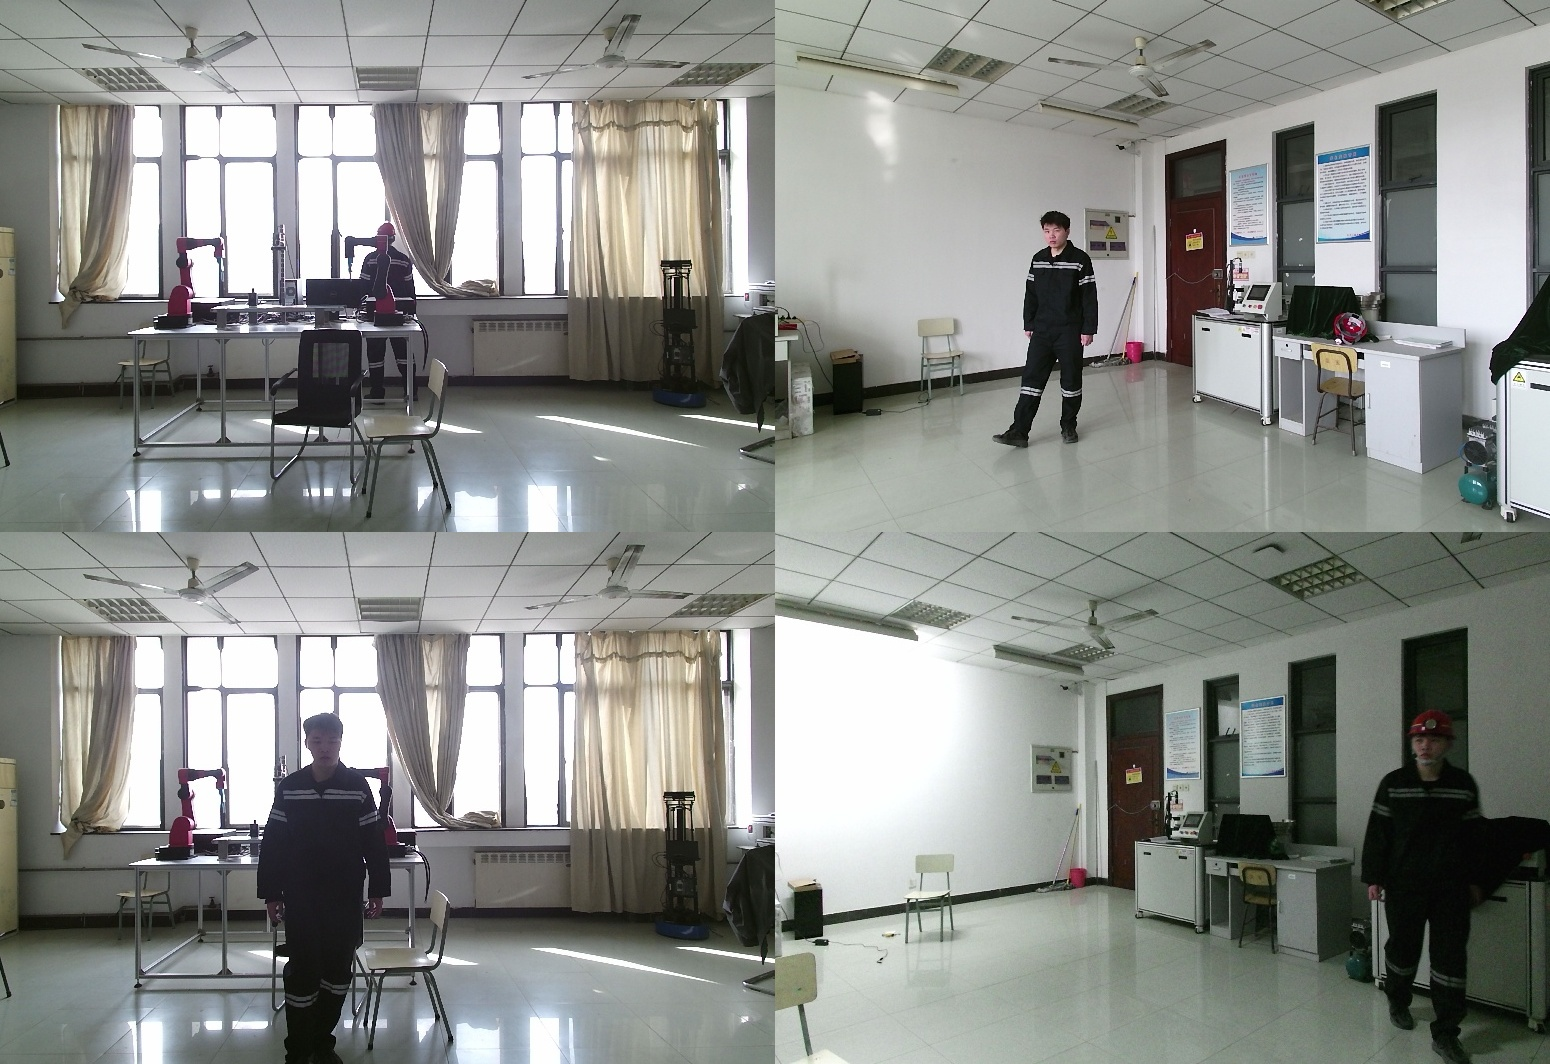person: (262, 712, 399, 1064), (1366, 715, 1495, 1064), (994, 213, 1108, 445), (353, 224, 417, 414)
